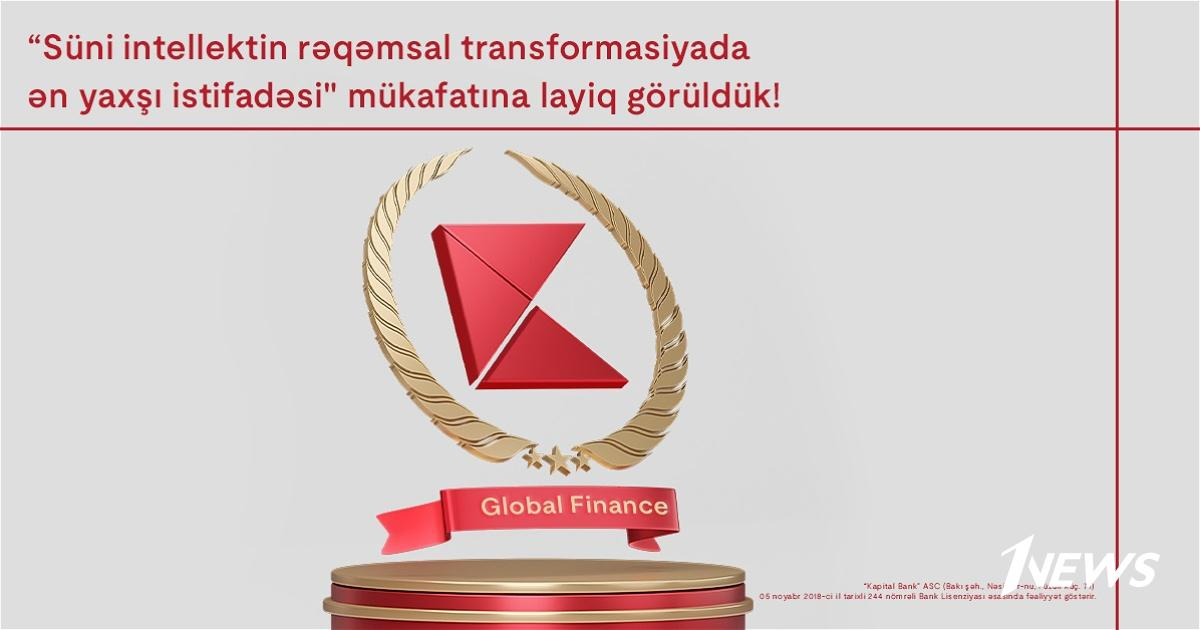Kapital Bank: (429, 218, 633, 394)
